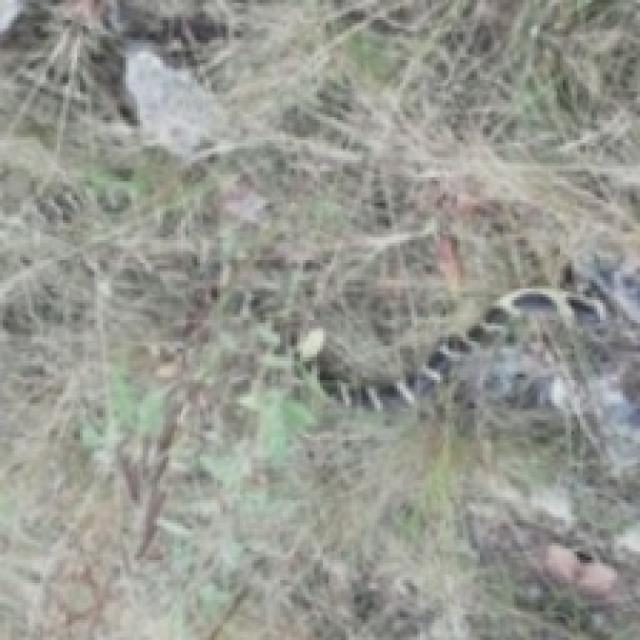king cobra: (334, 289, 606, 409)
